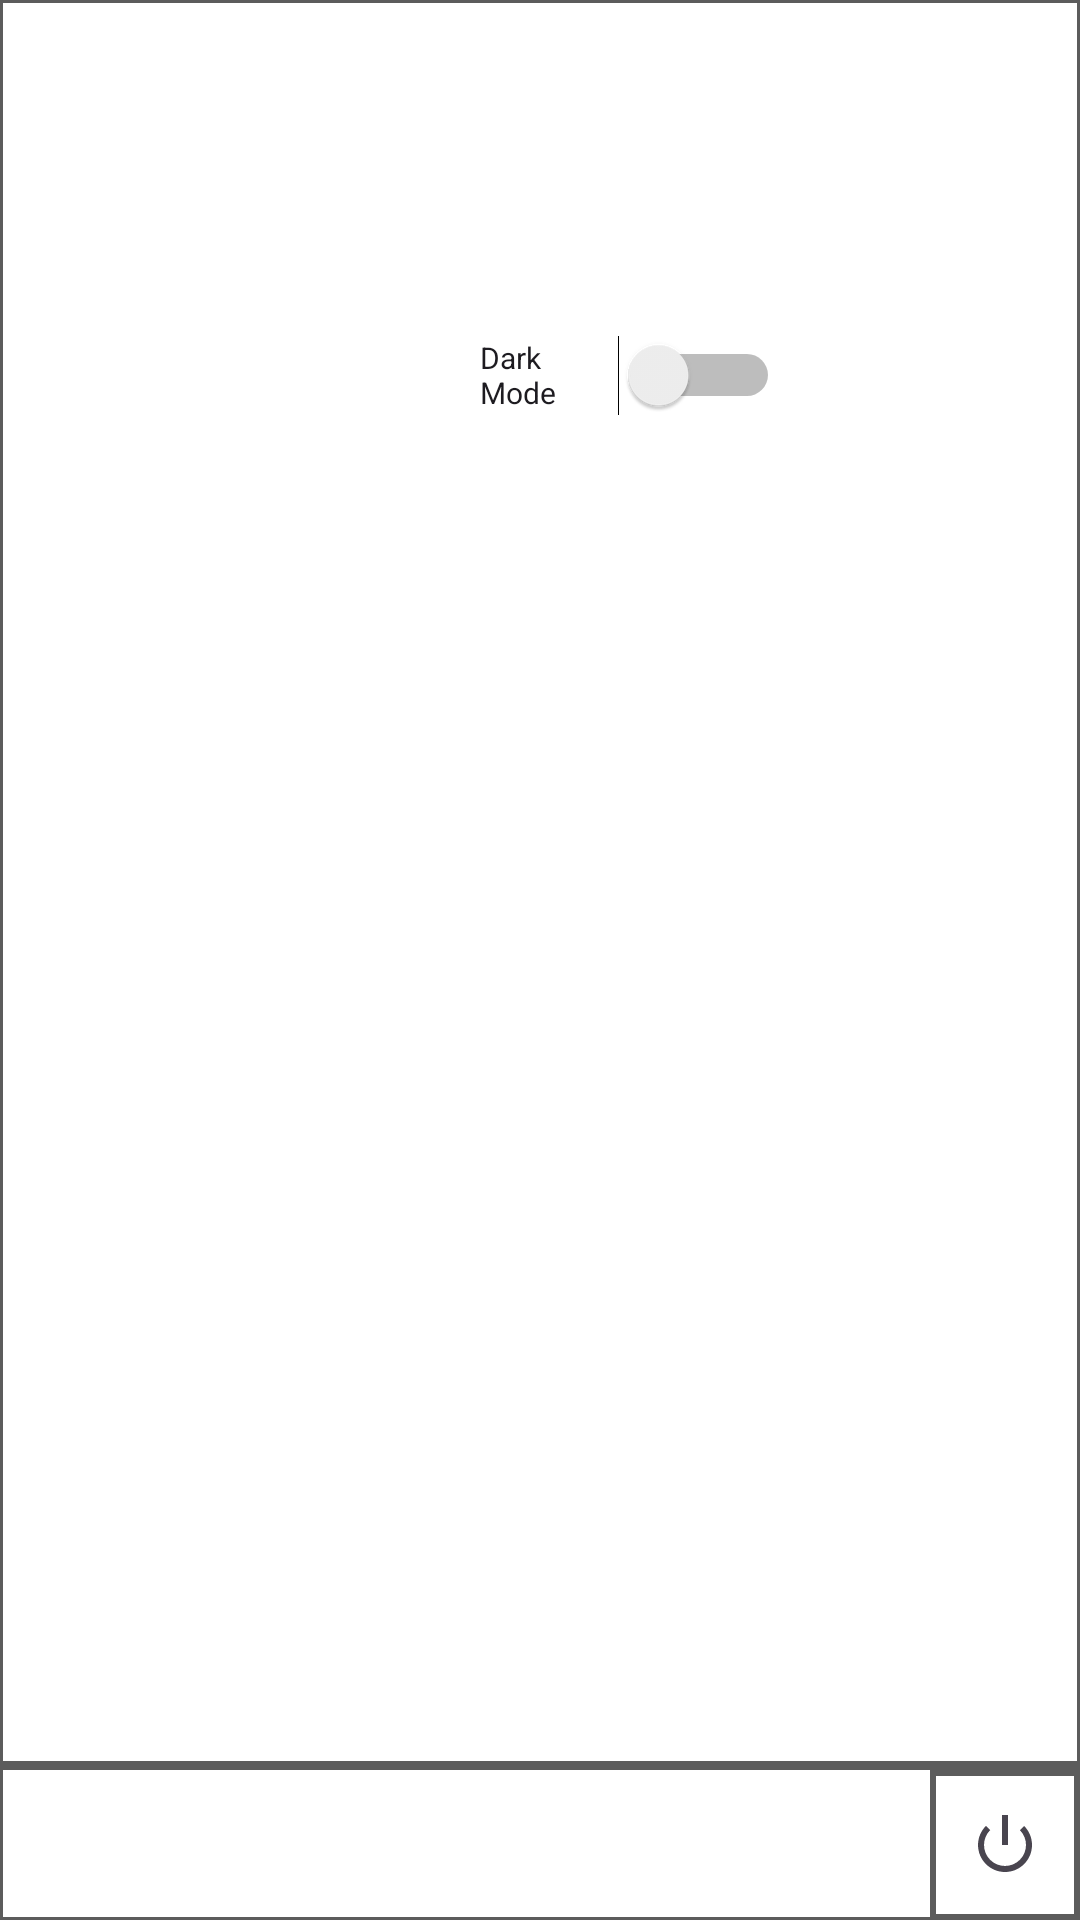

Where icons sit on this 1080*1920 app screen, as (x1, y1, x2, y2):
파워 버튼: (936, 1776, 1074, 1914)
